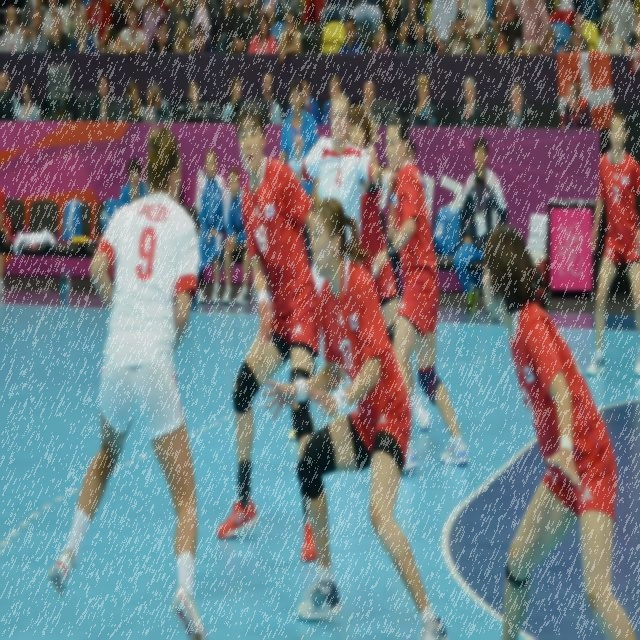pessoa: (260, 194, 449, 639), (48, 122, 210, 639), (480, 223, 640, 640), (215, 100, 322, 564), (370, 113, 470, 478), (348, 105, 431, 432), (292, 94, 400, 297), (584, 110, 640, 378), (452, 133, 509, 314), (278, 76, 321, 274), (384, 133, 431, 314), (192, 144, 226, 305), (222, 166, 252, 306), (258, 0, 328, 37), (112, 3, 146, 59), (406, 73, 441, 127), (285, 72, 321, 124), (426, 0, 460, 55), (452, 75, 488, 126), (398, 0, 431, 55), (118, 155, 150, 210), (230, 0, 260, 55), (501, 81, 536, 128), (459, 0, 488, 56), (441, 11, 476, 56), (84, 72, 115, 122), (562, 81, 594, 129), (85, 0, 113, 54), (164, 0, 192, 54), (246, 12, 279, 56), (141, 0, 167, 54), (277, 9, 302, 65), (215, 0, 240, 54), (67, 8, 96, 54), (115, 2, 138, 59), (348, 0, 384, 36), (380, 0, 403, 55), (0, 4, 26, 52), (262, 70, 284, 126), (220, 76, 246, 123), (507, 12, 532, 60), (564, 8, 590, 54), (336, 14, 364, 56), (24, 6, 48, 54), (0, 68, 21, 122), (145, 80, 172, 122), (321, 74, 342, 127), (25, 6, 48, 54), (15, 77, 40, 121), (597, 10, 621, 54), (46, 10, 70, 52), (127, 0, 175, 21), (148, 16, 174, 54), (125, 77, 146, 124), (548, 0, 581, 29), (64, 0, 86, 41), (624, 11, 640, 56), (370, 22, 392, 54), (494, 18, 512, 56), (193, 20, 214, 52), (493, 0, 518, 26), (174, 18, 191, 54), (320, 4, 341, 32), (540, 26, 558, 56), (187, 80, 200, 112), (363, 78, 376, 110), (486, 38, 498, 56), (600, 12, 606, 38)
